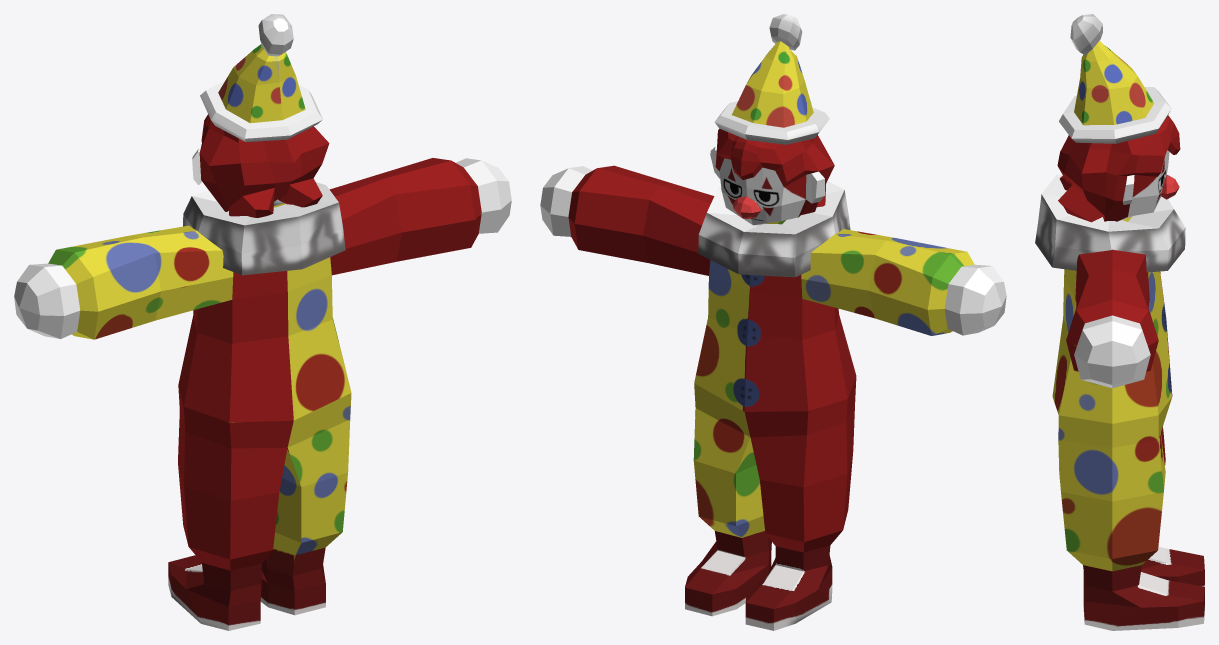
File: mojado_UNCANNY_ClownTest.fbx
The picture shows the model from 3 angles, left to right: view 1: azimuth 30°, elevation 25°; view 2: azimuth 150°, elevation 25°; view 3: azimuth 270°, elevation 25°; orthographic projection. The views are drawn at different scales.
Visible parts, largest first — view 1: CHARTEST2.011; view 2: CHARTEST2.011; view 3: CHARTEST2.011.
Boxes of the visible parts, x1,y1,x2,y2 form: CHARTEST2.011: [14, 14, 511, 630]; CHARTEST2.011: [540, 14, 1006, 630]; CHARTEST2.011: [1035, 14, 1204, 630].
Size of the model in its own units: 911 by 1072 by 282.
